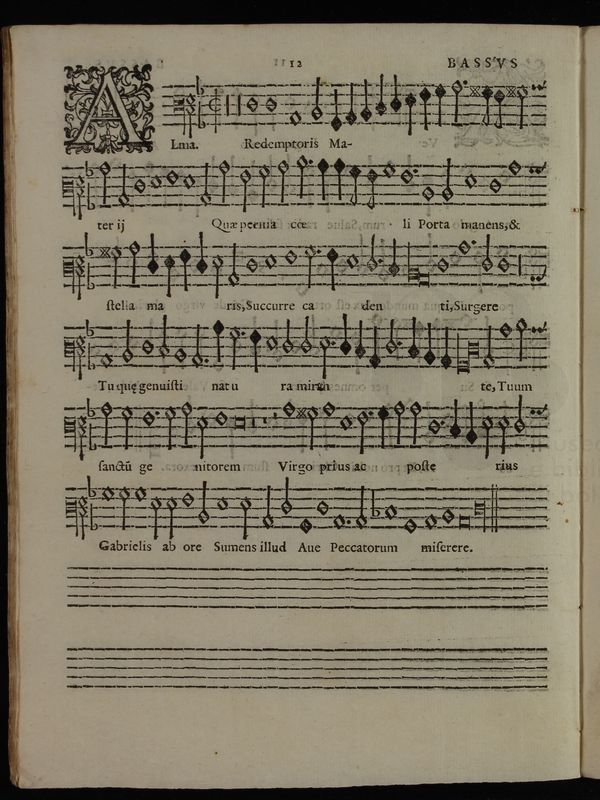custos_10: (524, 256, 551, 289)
f clef_7: (57, 249, 84, 297)
flat_11: (82, 258, 96, 293)
flat_4: (80, 229, 94, 258)
l1semibreve_9: (403, 236, 417, 286)
l2semibreve_10: (415, 267, 434, 290)
longa rest: (512, 239, 525, 290)
minim_10: (225, 237, 241, 291)
minim_3: (125, 234, 141, 288)
minim_4: (300, 239, 316, 292), (108, 239, 123, 291)
minim_6: (209, 245, 224, 299)
minim_7: (479, 229, 494, 276), (368, 236, 378, 275)
point: (465, 234, 478, 251), (373, 253, 386, 269), (311, 243, 324, 258)
semibreve_3: (455, 236, 471, 261)
semibreve_5: (282, 241, 297, 271)
semibreve_6: (262, 245, 279, 275), (343, 245, 360, 274)
semibreve_7: (243, 249, 261, 278), (434, 249, 452, 278), (495, 250, 513, 279)
semiminim_5: (322, 237, 339, 295), (176, 241, 192, 295)
semiminim_6: (161, 245, 176, 300)
semiminim_7: (145, 227, 160, 281), (194, 227, 209, 280)
semiminim_8: (386, 233, 401, 283)
sharp: (91, 239, 115, 264)
